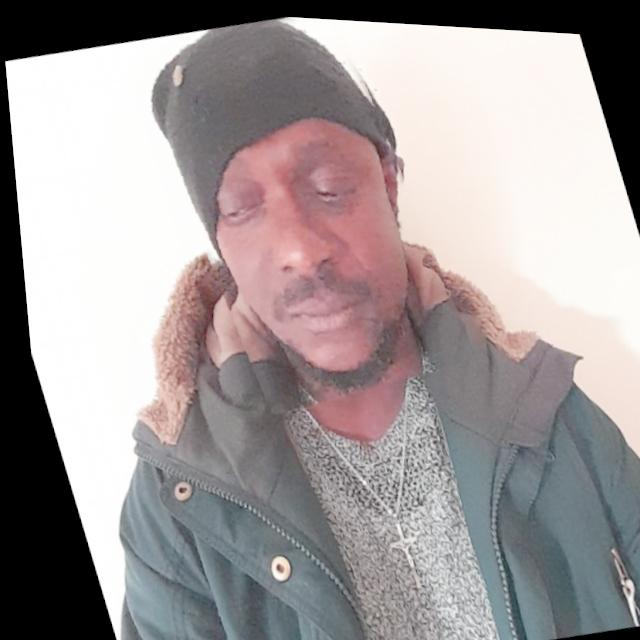sad: (128, 6, 470, 422)
